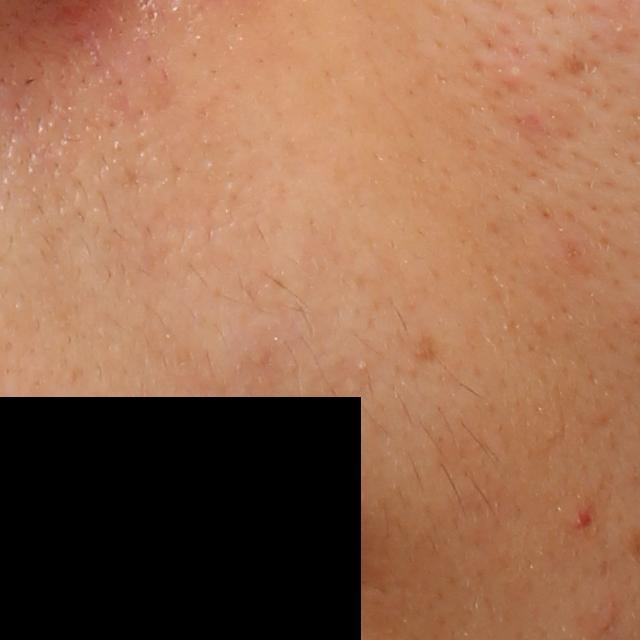papule: (492, 51, 540, 97), (570, 505, 598, 532)
